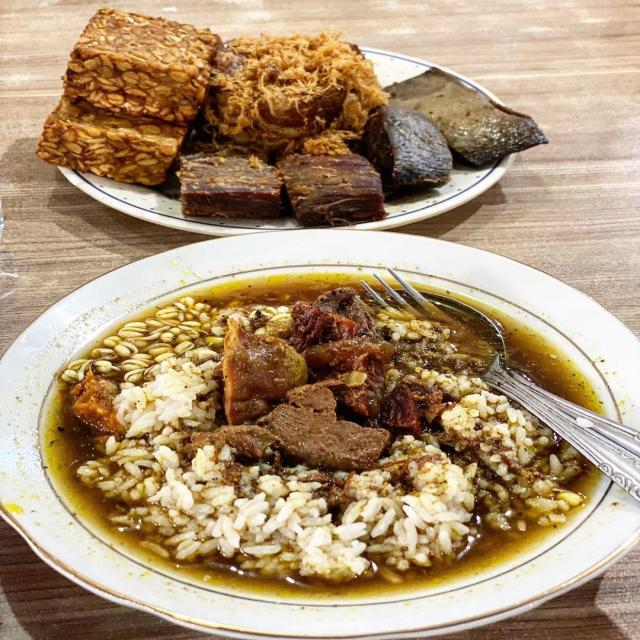Rawon: (58, 280, 612, 562)
